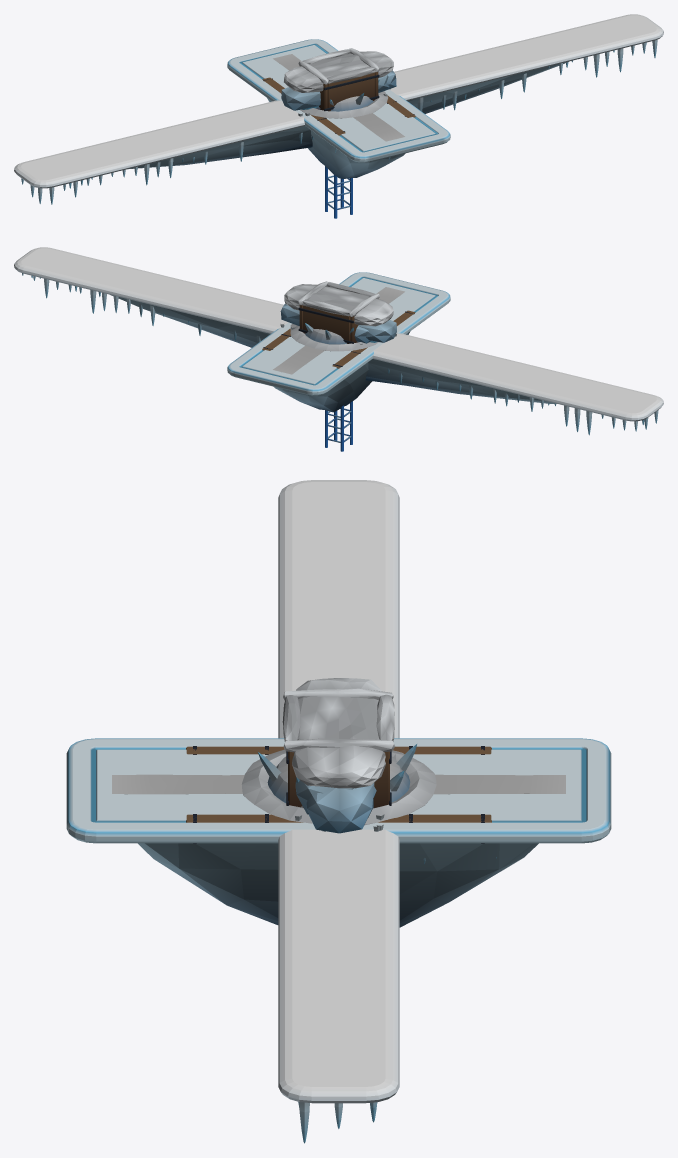
File: glacier-1-BqXHv1aH.glb
3 renders of one model, top to bottom at view 1: azimuth 30°, elevation 25°; view 2: azimuth 150°, elevation 25°; view 3: azimuth 270°, elevation 25°, orthographic. The views are drawn at different scales.
Parts seen in each view (by area): view 1: block_64x2x5#0, block_10x2x24_ice#0, spout_8x2#0, hopper_4x3#0, geyserVent_3.9#0, beam_2x1.5x20_plank#0, truss_11#0, belt_8x1.5x13.5x0#0; view 2: block_64x2x5#0, block_10x2x24_ice#0, spout_8x2#0, hopper_4x3#0, geyserVent_3.9#0, beam_2x1.5x20_plank#0, truss_11#0, belt_8x1.5x13.5x0#0; view 3: block_64x2x5#0, block_10x2x24_ice#0, spout_8x2#0, geyserVent_3.9#0, beam_2x1.5x20_plank#0, hopper_4x3#0, belt_8x1.5x13.5x0#0.
Part boxes in pixels (box(x1,y1,x2,y2)): block_64x2x5#0: box(14, 14, 663, 204); block_10x2x24_ice#0: box(227, 39, 450, 178); spout_8x2#0: box(281, 51, 396, 116); hopper_4x3#0: box(298, 48, 379, 111); geyserVent_3.9#0: box(300, 79, 388, 118); beam_2x1.5x20_plank#0: box(273, 54, 404, 160); truss_11#0: box(325, 166, 352, 218); belt_8x1.5x13.5x0#0: box(262, 77, 415, 152); block_64x2x5#0: box(14, 247, 663, 435); block_10x2x24_ice#0: box(227, 272, 450, 412); spout_8x2#0: box(280, 284, 396, 344); hopper_4x3#0: box(298, 281, 379, 343); geyserVent_3.9#0: box(290, 323, 378, 351); beam_2x1.5x20_plank#0: box(273, 287, 404, 390); truss_11#0: box(325, 401, 352, 451); belt_8x1.5x13.5x0#0: box(262, 310, 415, 368); block_64x2x5#0: box(278, 480, 399, 1143); block_10x2x24_ice#0: box(66, 738, 611, 927); spout_8x2#0: box(292, 678, 385, 833); geyserVent_3.9#0: box(241, 744, 436, 825); beam_2x1.5x20_plank#0: box(112, 774, 565, 794); hopper_4x3#0: box(282, 688, 394, 807); belt_8x1.5x13.5x0#0: box(186, 746, 496, 863).
Size of the model in its own units: 64.36 by 14.58 by 24.
